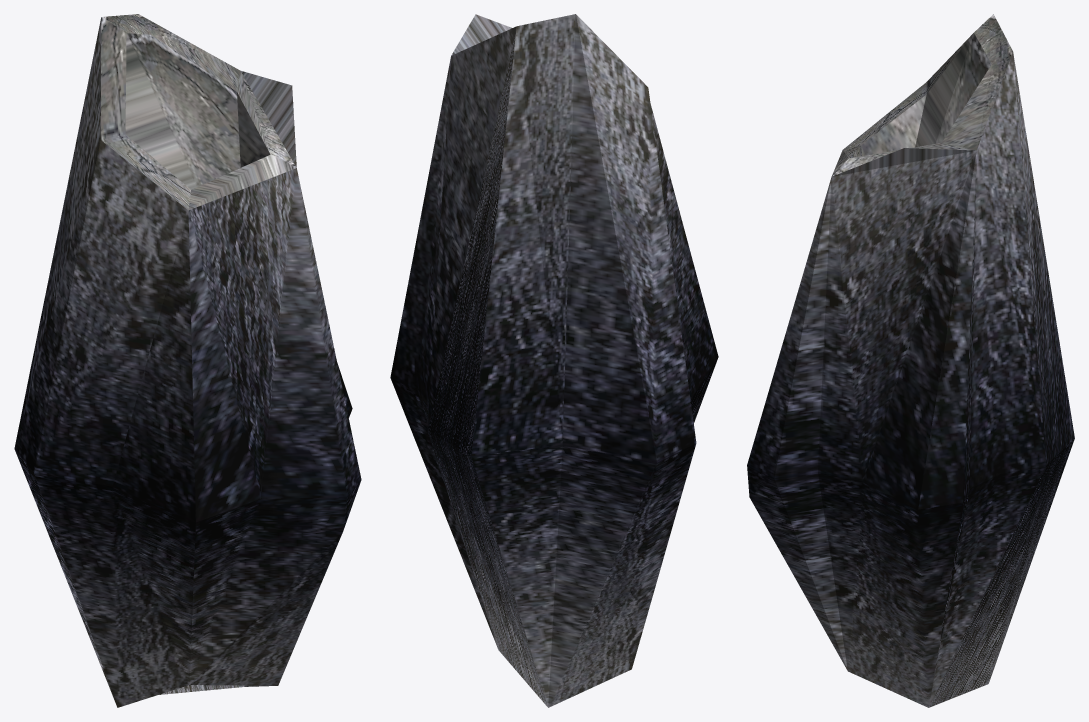
Rendered from decd_massassistump_l1.fbx.
3 views of the same model, side by side, from view 1: azimuth 30°, elevation 25°; view 2: azimuth 150°, elevation 25°; view 3: azimuth 270°, elevation 25° (orthographic). The views are drawn at different scales.
Visible parts, largest first — view 1: mesh_node; view 2: mesh_node; view 3: mesh_node.
Part boxes in pixels (bbox=[...]): mesh_node: bbox=[14, 14, 361, 707]; mesh_node: bbox=[390, 14, 718, 707]; mesh_node: bbox=[747, 14, 1074, 707].
Size of the model in its own units: 10.46 by 22.53 by 10.2.
